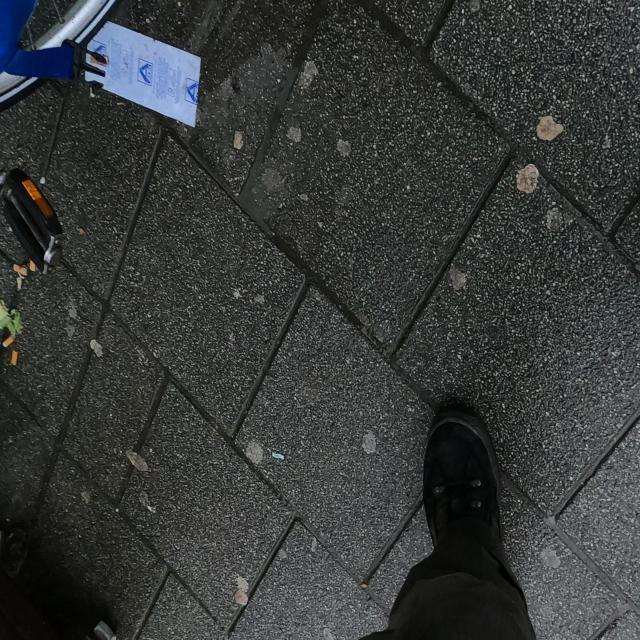Paper: (84, 19, 204, 130)
